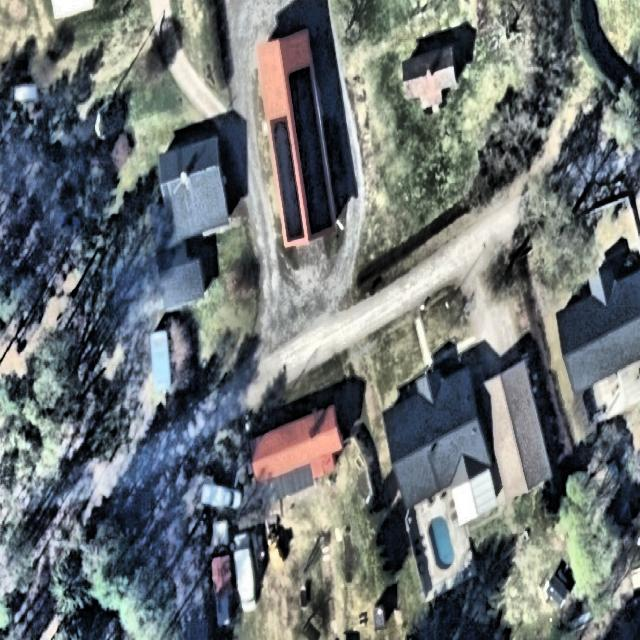roof_pv: (287, 60, 333, 239), (270, 116, 305, 252)
